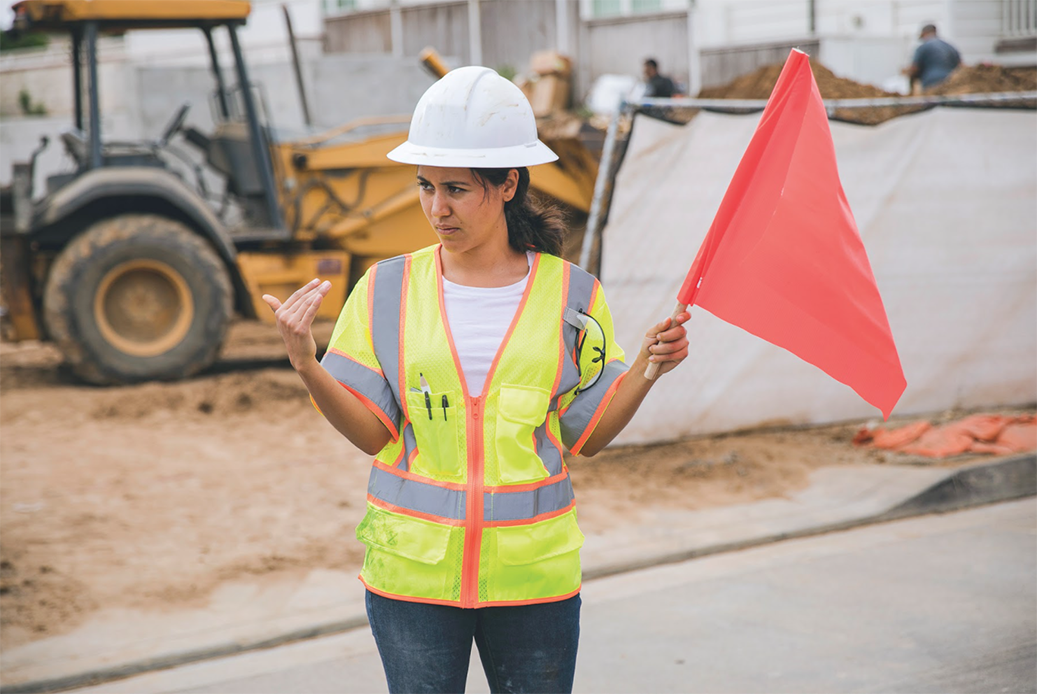hat: (298, 237, 649, 625)
jacket: (373, 60, 573, 173)
